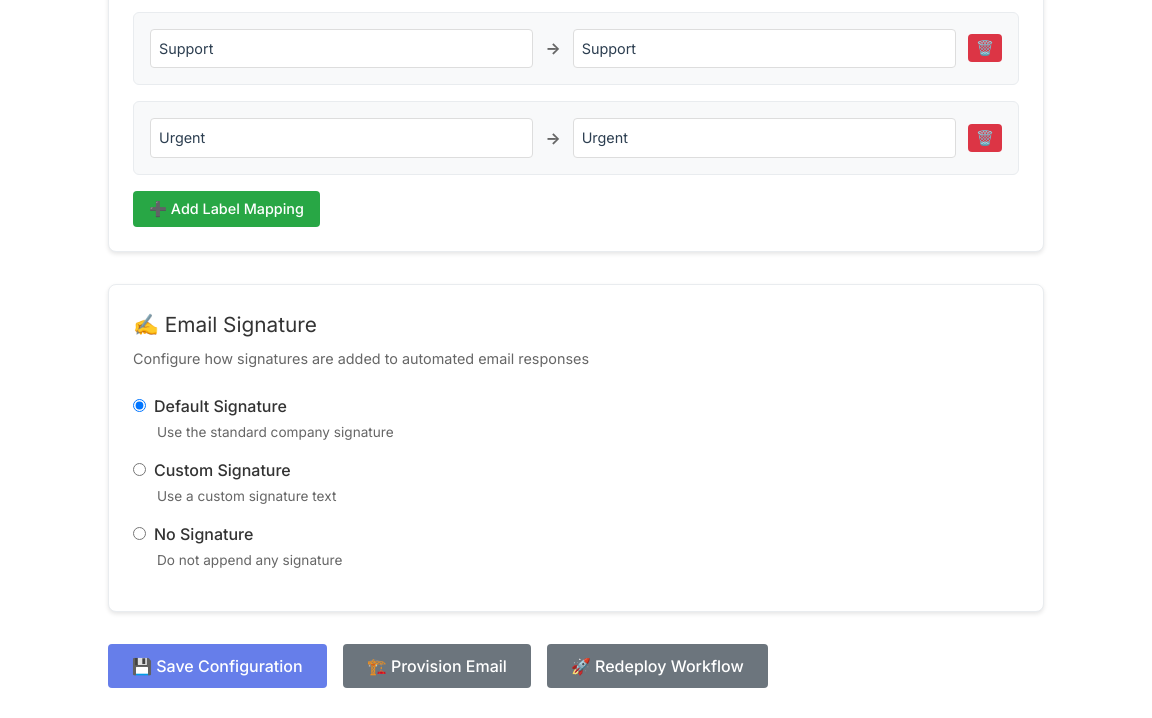
Test: EmailAutomationSettings › should handle redeploy action
The image size is (1152, 718).
(page scrolled)
Click the button "🚀 Redeploy Workflow" at x=657, y=666, box [547,644,768,688]
(page scrolled)
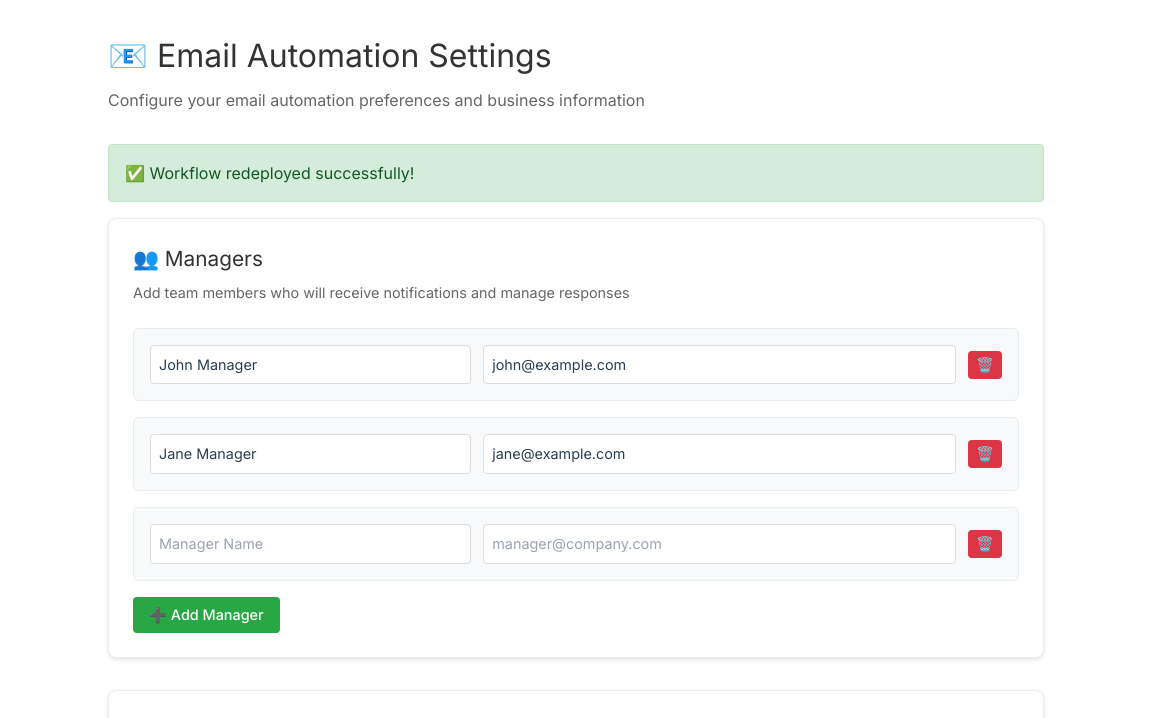
Expected: the text "✅ Workflow redeployed successfully!" is shown, [108,144,1044,202]
